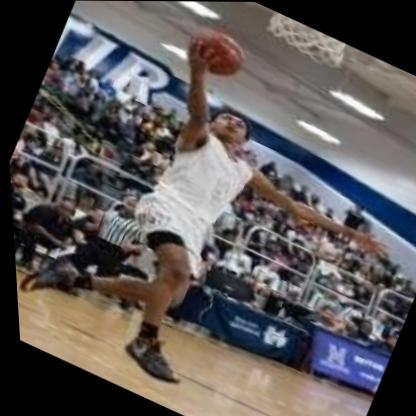basketball: (175, 19, 250, 87)
